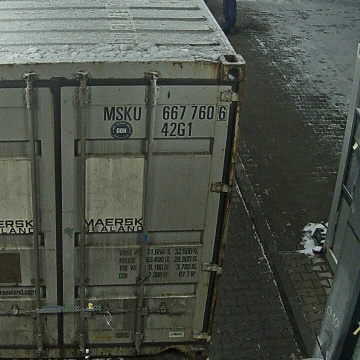serial_id: (103, 106, 226, 120)
